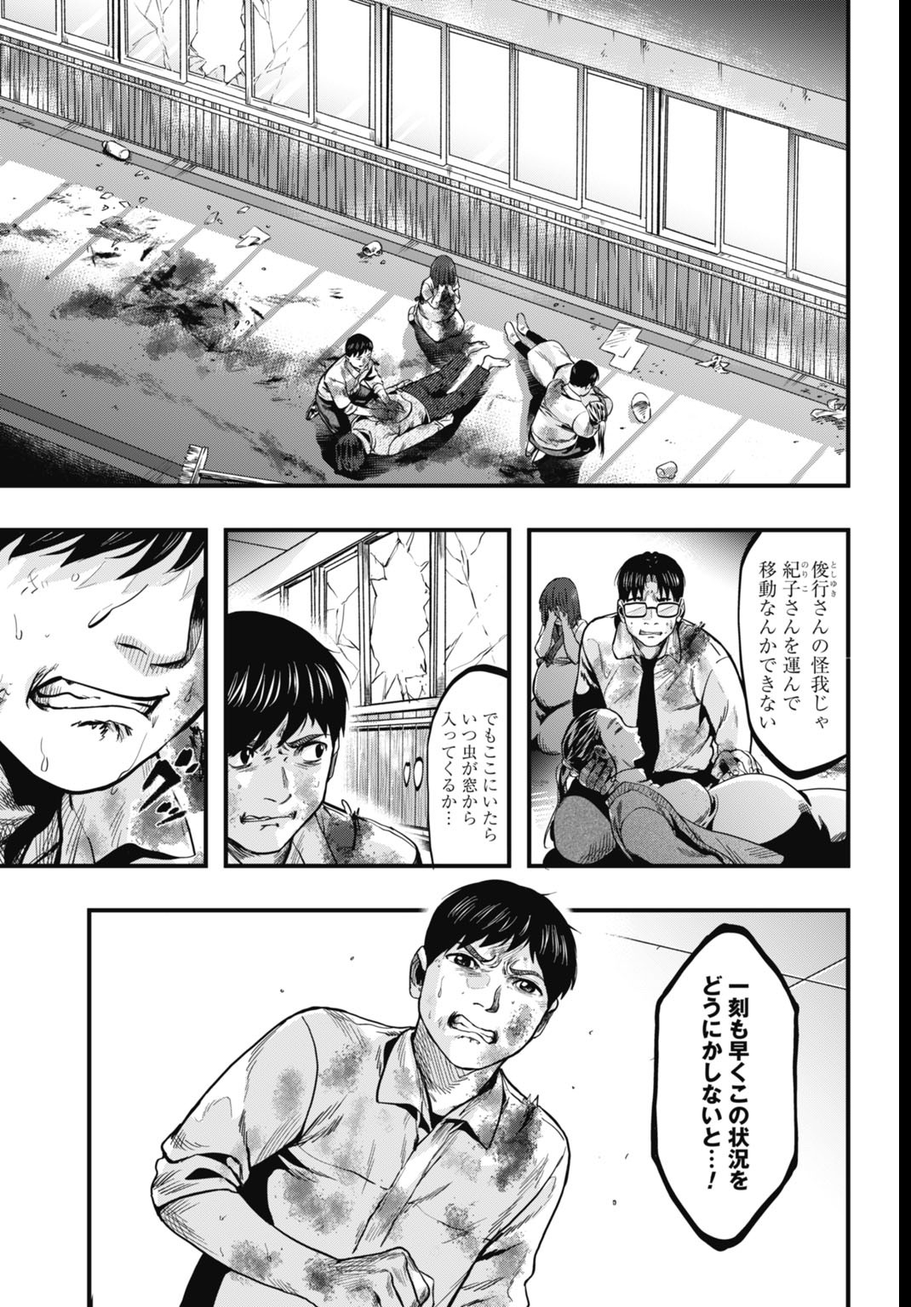bubbles: (638, 920, 810, 1258), (735, 527, 850, 782), (398, 665, 513, 865)
